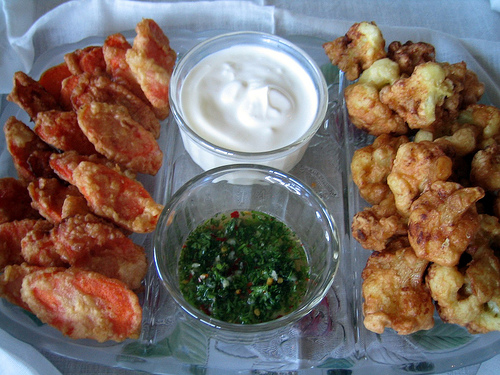cauliflower: (321, 19, 499, 337)
